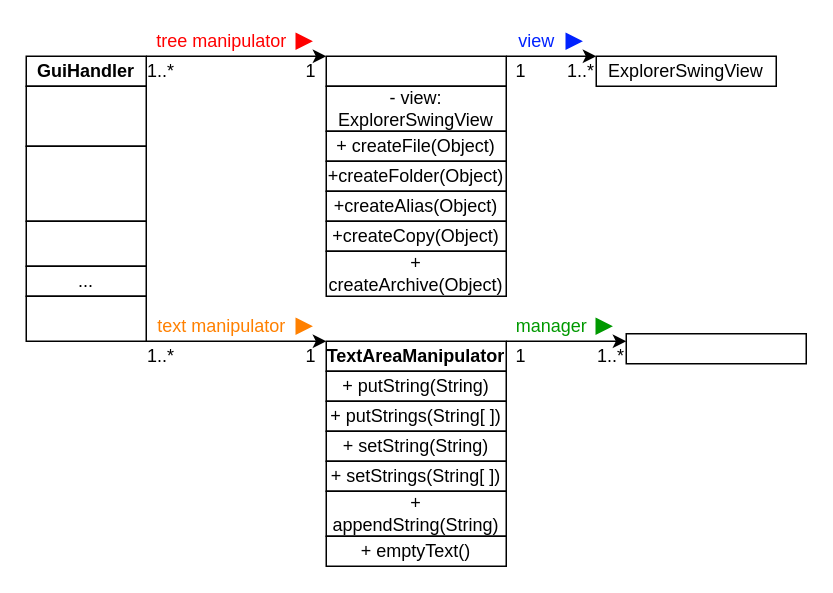
This 833x593 diagram has some shape labels left out. Each missing label, with the centre of its shape:
+ createAlias Event(Object): (x=85, y=243)
+ eventExit (Object): (x=85, y=318)
+ viewManager: ViewManager: (x=85, y=183)
- esv: ExplorerSwing View: (x=85, y=115)
TextAreaManager: (x=715, y=348)
TreeViewManipulator: (x=415, y=70)
